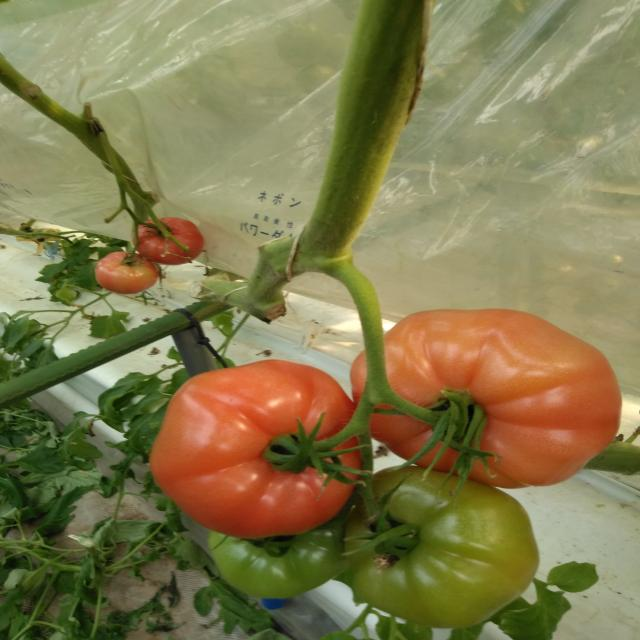n-half-riped: (350, 308, 622, 490), (94, 252, 158, 294)
n-riped: (148, 360, 366, 539), (132, 217, 205, 266)
n-unriped: (342, 464, 539, 630), (208, 504, 350, 600)
